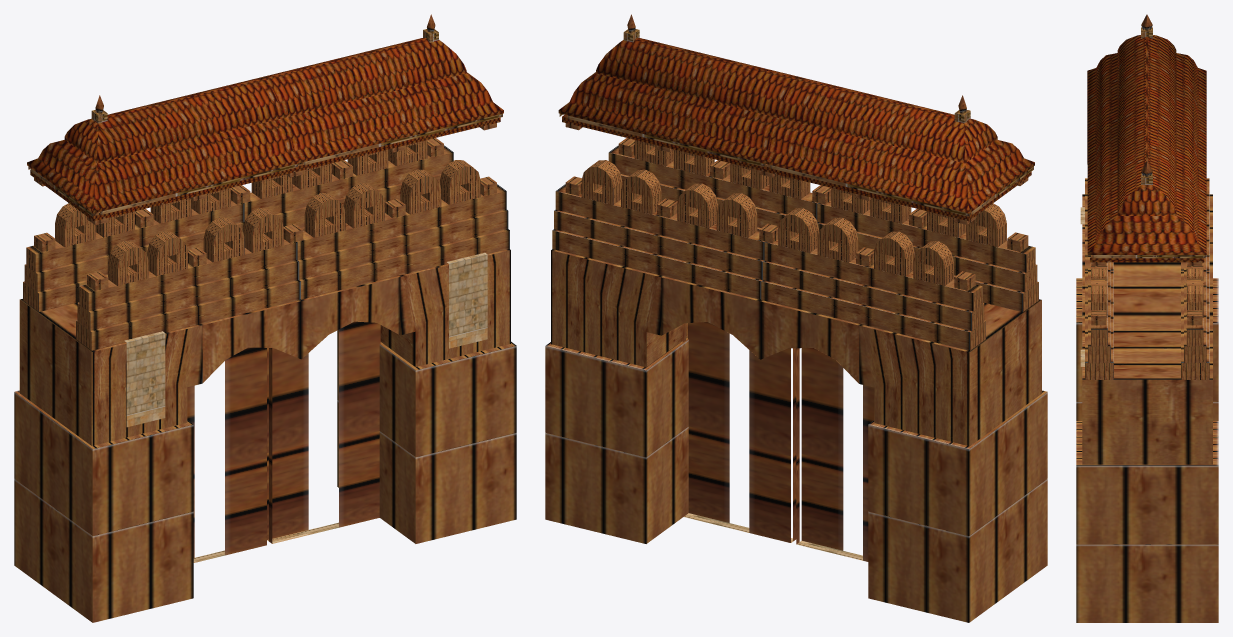
The model's file is wall_gate.dae.
3 renders of one model, left to right at view 1: azimuth 30°, elevation 25°; view 2: azimuth 150°, elevation 25°; view 3: azimuth 270°, elevation 25°, orthographic. The views are drawn at different scales.
Visible parts, largest first — view 1: wall_gate; view 2: wall_gate; view 3: wall_gate.
Boxes of the visible parts, box(x1,y1,x2,y2) form: wall_gate: box(14, 14, 516, 622); wall_gate: box(545, 14, 1047, 622); wall_gate: box(1076, 14, 1218, 622).
Size of the model in its own units: 20 by 6.42 by 22.01.
